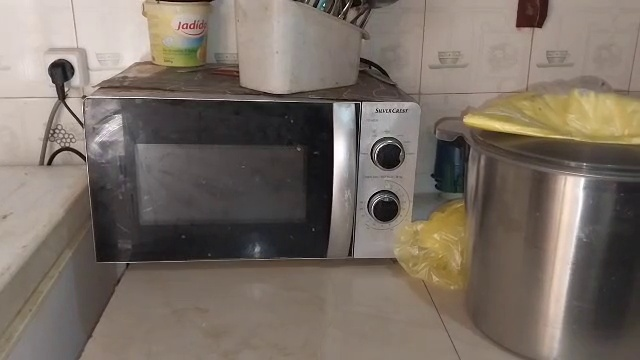microwave: (81, 86, 431, 270)
